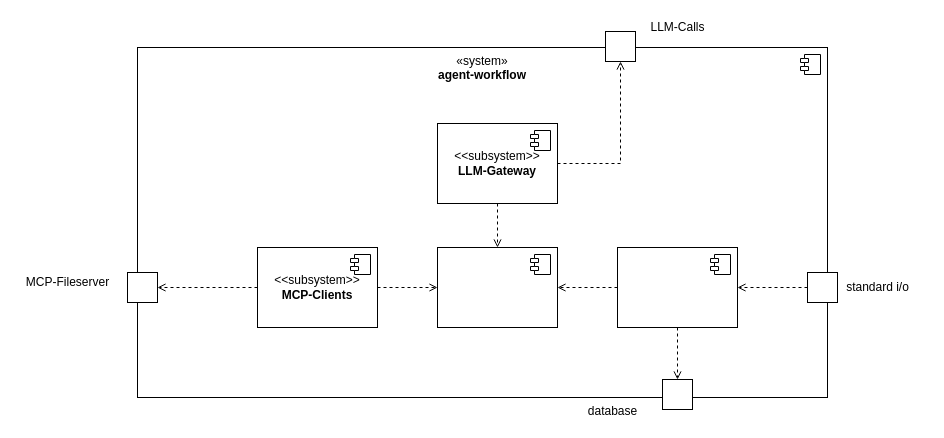
The diagram is 944 pixels wide and 438 high, and some of its shapes have lost their labels. The shapes that lost their labels are listed below. From the top down, each one's centre as x and y in pixels, then its label:
At pixel 497 287: "<<subsystem>> agents".
At pixel 677 287: "<<subsystem>> Workflow-Engine".
